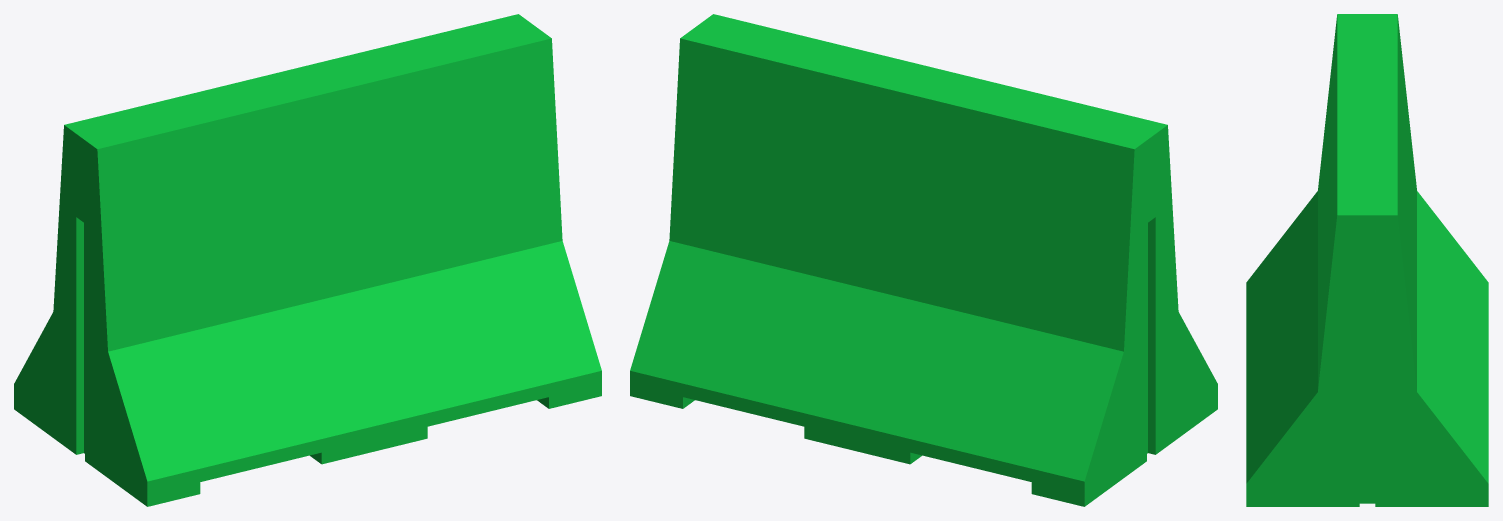
File: barreira.glb
3 renders of one model, left to right at view 1: azimuth 30°, elevation 25°; view 2: azimuth 150°, elevation 25°; view 3: azimuth 270°, elevation 25°, orthographic. The views are drawn at different scales.
Parts seen in each view (by area): view 1: node_id3; view 2: node_id3; view 3: node_id3.
Part boxes in pixels (<box>): node_id3: <box>14,14,601,506</box>; node_id3: <box>630,14,1217,506</box>; node_id3: <box>1246,14,1488,506</box>.
Size of the model in its own units: 0.512 by 0.3456 by 0.2603.
Materials: 1 (1 with a texture image).
